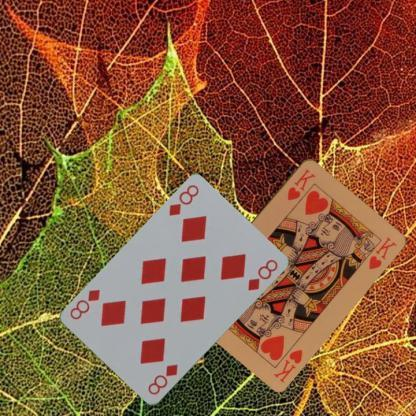8d: (166, 182, 200, 218), (145, 362, 179, 396)
Kh: (271, 346, 304, 384), (284, 166, 317, 202)
